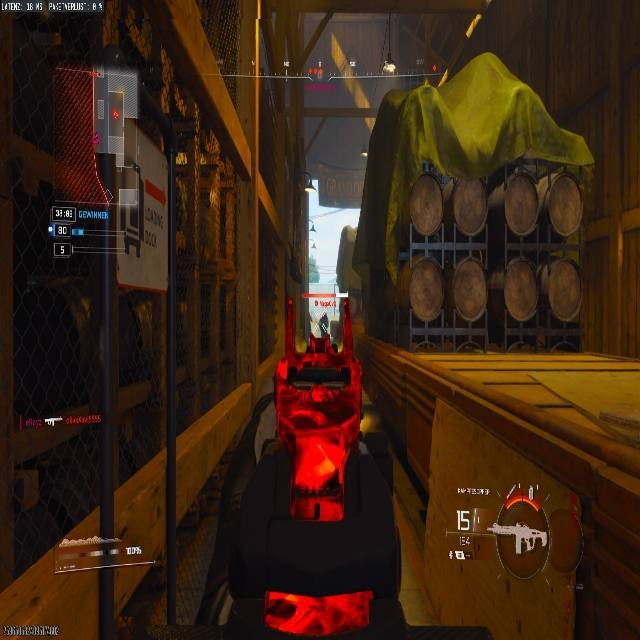player: (315, 306, 332, 339), (319, 312, 329, 336)
